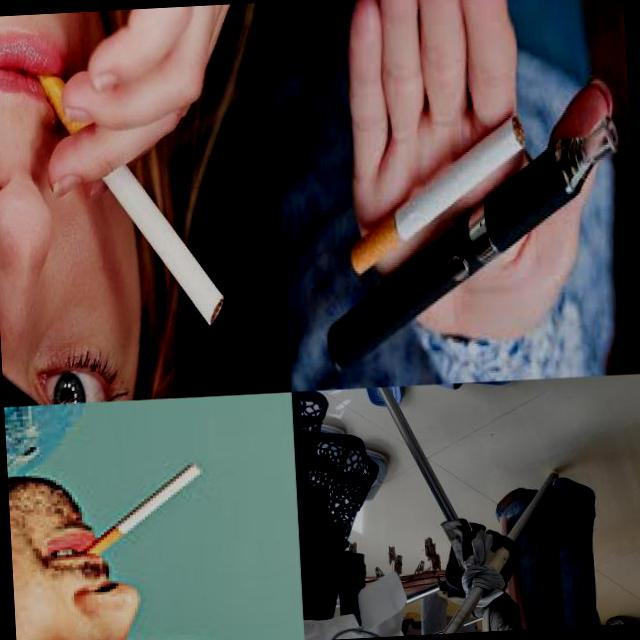cigarette: (32, 51, 225, 334), (343, 114, 532, 276), (77, 467, 204, 559)
